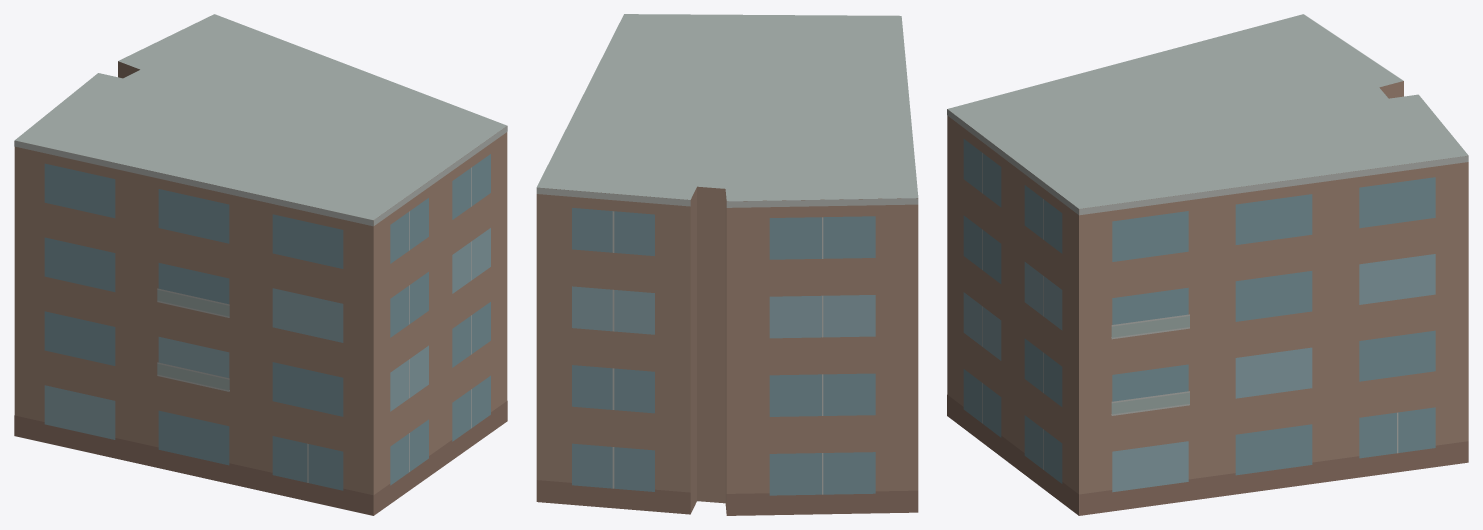
File: survey-upis-32595687.glb
3 views of the same model, side by side, from view 1: azimuth 30°, elevation 25°; view 2: azimuth 150°, elevation 25°; view 3: azimuth 270°, elevation 25° (orthographic). The views are drawn at different scales.
Parts seen in each view (by area): view 1: survey-upis-32595687.tmp; view 2: survey-upis-32595687.tmp; view 3: survey-upis-32595687.tmp.
Part boxes in pixels (x1,y1,x2,y2): survey-upis-32595687.tmp: (14,14,507,515); survey-upis-32595687.tmp: (536,14,918,515); survey-upis-32595687.tmp: (947,14,1468,515).
Size of the model in its own units: 16.09 by 11.8 by 18.18.
